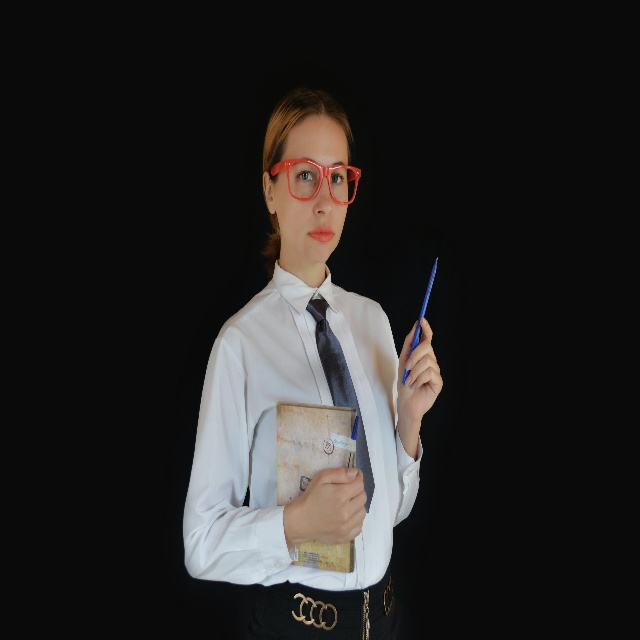Gafas: (271, 157, 362, 205)
Sin_guantes: (294, 466, 367, 545), (397, 317, 443, 418)
